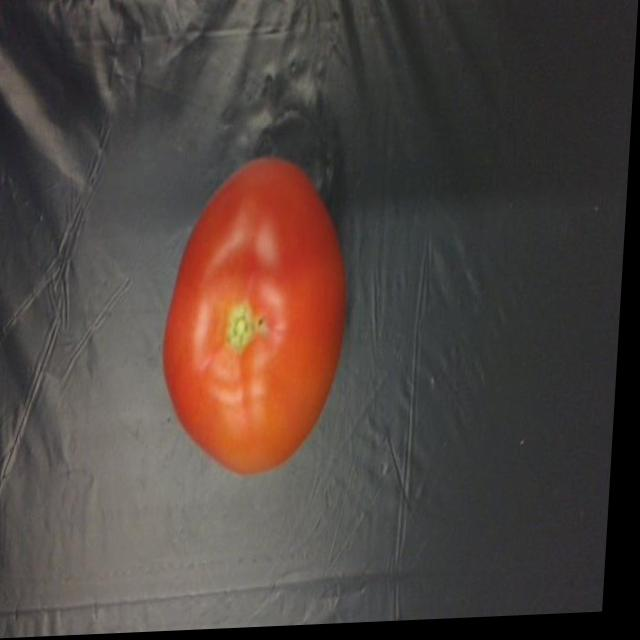kirmizi: (93, 134, 393, 494)
